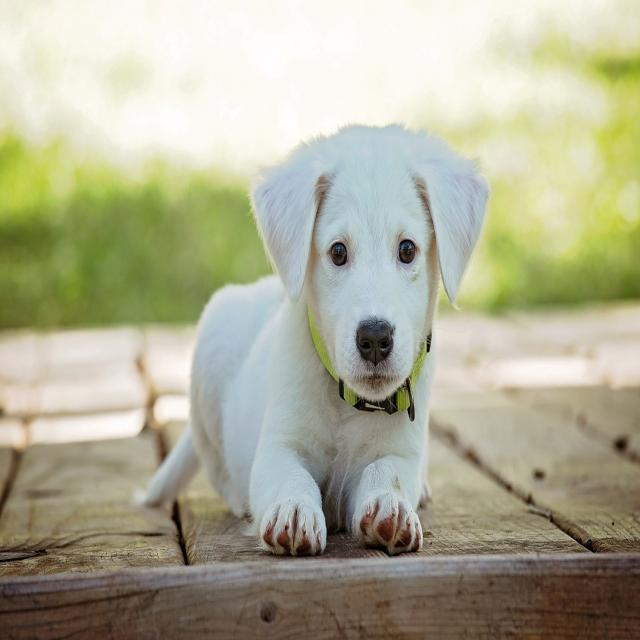dog: (143, 123, 490, 554)
